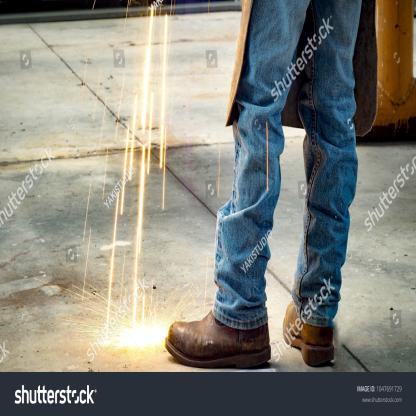bota: (163, 308, 274, 370), (282, 298, 337, 368)
